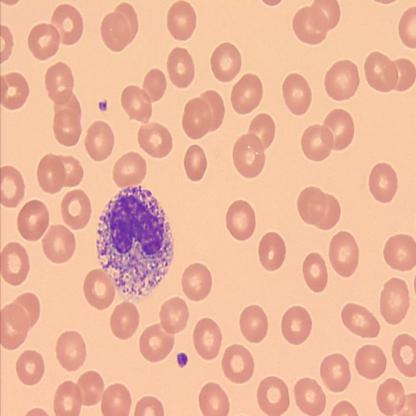Band Neutrophil: (94, 183, 175, 303)
